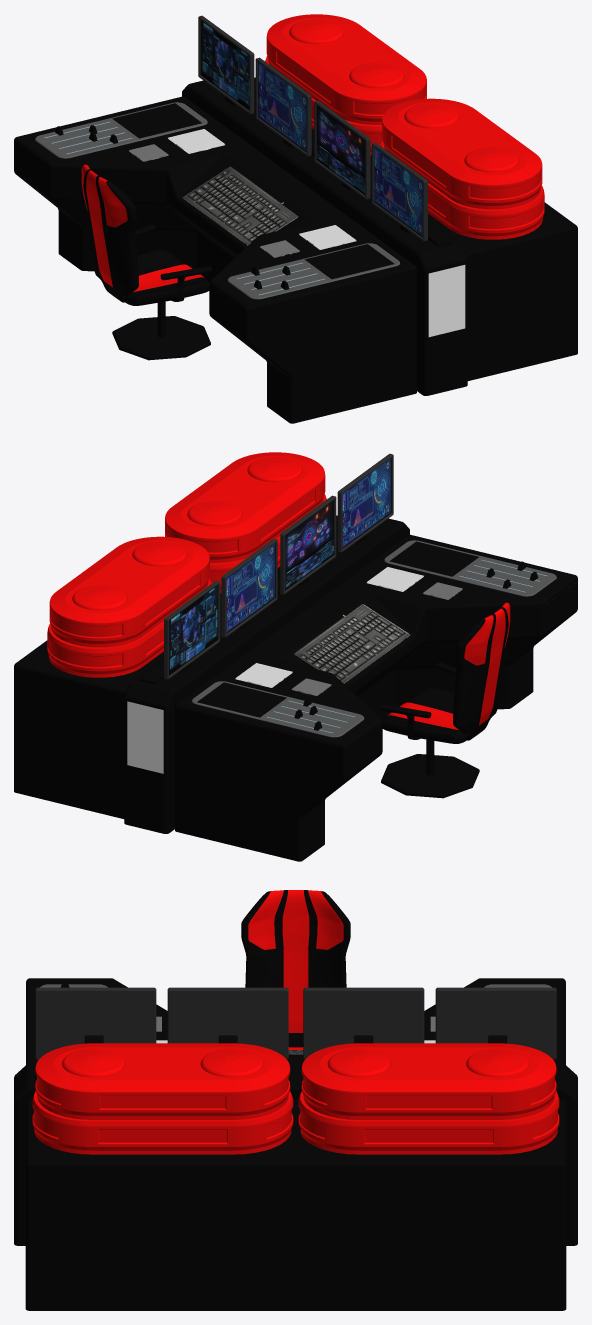
File: science_lab_table.glb
3 renders of one model, top to bottom at view 1: azimuth 30°, elevation 25°; view 2: azimuth 150°, elevation 25°; view 3: azimuth 270°, elevation 25°, orthographic. The views are drawn at different scales.
Visible parts, largest first — view 1: Desk, Monitor Panel, Cooling, Control Panel, Back, Blender Bros Sci-Fi UI Pack_020_projected_.Blender Bros Sci-, Monitors, Cooling.001, Chair Base, Blender Bros Sci-Fi UI Pack_018_projected_.Blender Bros Sci-, Blender Bros Sci-Fi UI Pack_017_projected_.Blender Bros Sci-, Blender Bros Sci-Fi UI Pack_009_projected_.Blender Bros Sci- (+9 smaller); view 2: Desk, Monitor Panel, Cooling, Control Panel, Back, Blender Bros Sci-Fi UI Pack_020_projected_.Blender Bros Sci-, Monitors, Cooling.001, Chair Base, Blender Bros Sci-Fi UI Pack_018_projected_.Blender Bros Sci-, Blender Bros Sci-Fi UI Pack_017_projected_.Blender Bros Sci-, Blender Bros Sci-Fi UI Pack_009_projected_.Blender Bros Sci- (+9 smaller); view 3: Monitor Panel, Cooling, Monitors, Cooling.001, Back, Desk.
Boxes of the visible parts, x1=… form: Desk: x1=14, y1=96, x2=416, y2=423; Monitor Panel: x1=182, y1=77, x2=577, y2=395; Cooling: x1=266, y1=14, x2=542, y2=209; Control Panel: x1=35, y1=102, x2=400, y2=299; Back: x1=81, y1=164, x2=138, y2=302; Blender Bros Sci-Fi UI Pack_020_projected_.Blender Bros Sci-: x1=182, y1=165, x2=300, y2=245; Monitors: x1=198, y1=15, x2=427, y2=241; Cooling.001: x1=265, y1=56, x2=544, y2=239; Chair Base: x1=112, y1=301, x2=210, y2=360; Blender Bros Sci-Fi UI Pack_018_projected_.Blender Bros Sci-: x1=201, y1=20, x2=249, y2=109; Blender Bros Sci-Fi UI Pack_017_projected_.Blender Bros Sci-: x1=258, y1=62, x2=306, y2=151; Blender Bros Sci-Fi UI Pack_009_projected_.Blender Bros Sci-: x1=374, y1=147, x2=422, y2=236; Desk: x1=175, y1=534, x2=577, y2=861; Monitor Panel: x1=14, y1=515, x2=409, y2=833; Cooling: x1=49, y1=452, x2=325, y2=647; Control Panel: x1=191, y1=540, x2=556, y2=737; Back: x1=453, y1=602, x2=510, y2=740; Blender Bros Sci-Fi UI Pack_020_projected_.Blender Bros Sci-: x1=292, y1=602, x2=410, y2=683; Monitors: x1=164, y1=453, x2=393, y2=679; Cooling.001: x1=47, y1=494, x2=326, y2=677; Chair Base: x1=381, y1=739, x2=479, y2=798; Blender Bros Sci-Fi UI Pack_018_projected_.Blender Bros Sci-: x1=169, y1=585, x2=217, y2=674; Blender Bros Sci-Fi UI Pack_017_projected_.Blender Bros Sci-: x1=226, y1=543, x2=274, y2=632; Blender Bros Sci-Fi UI Pack_009_projected_.Blender Bros Sci-: x1=342, y1=458, x2=390, y2=547; Monitor Panel: x1=14, y1=1035, x2=577, y2=1310; Cooling: x1=35, y1=1043, x2=556, y2=1119; Monitors: x1=35, y1=987, x2=556, y2=1059; Cooling.001: x1=32, y1=1091, x2=559, y2=1154; Back: x1=241, y1=890, x2=350, y2=1047; Desk: x1=26, y1=978, x2=565, y2=1064.
Bounding box in the file's own units: 9.42 × 5.01 × 10.74.
24 materials, 6 textured.
